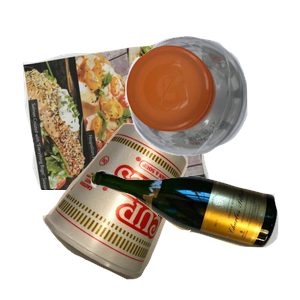glass: (88, 167, 300, 300)
paper: (20, 34, 221, 214)
plastic: (123, 33, 300, 181)
trash: (40, 121, 221, 300)
